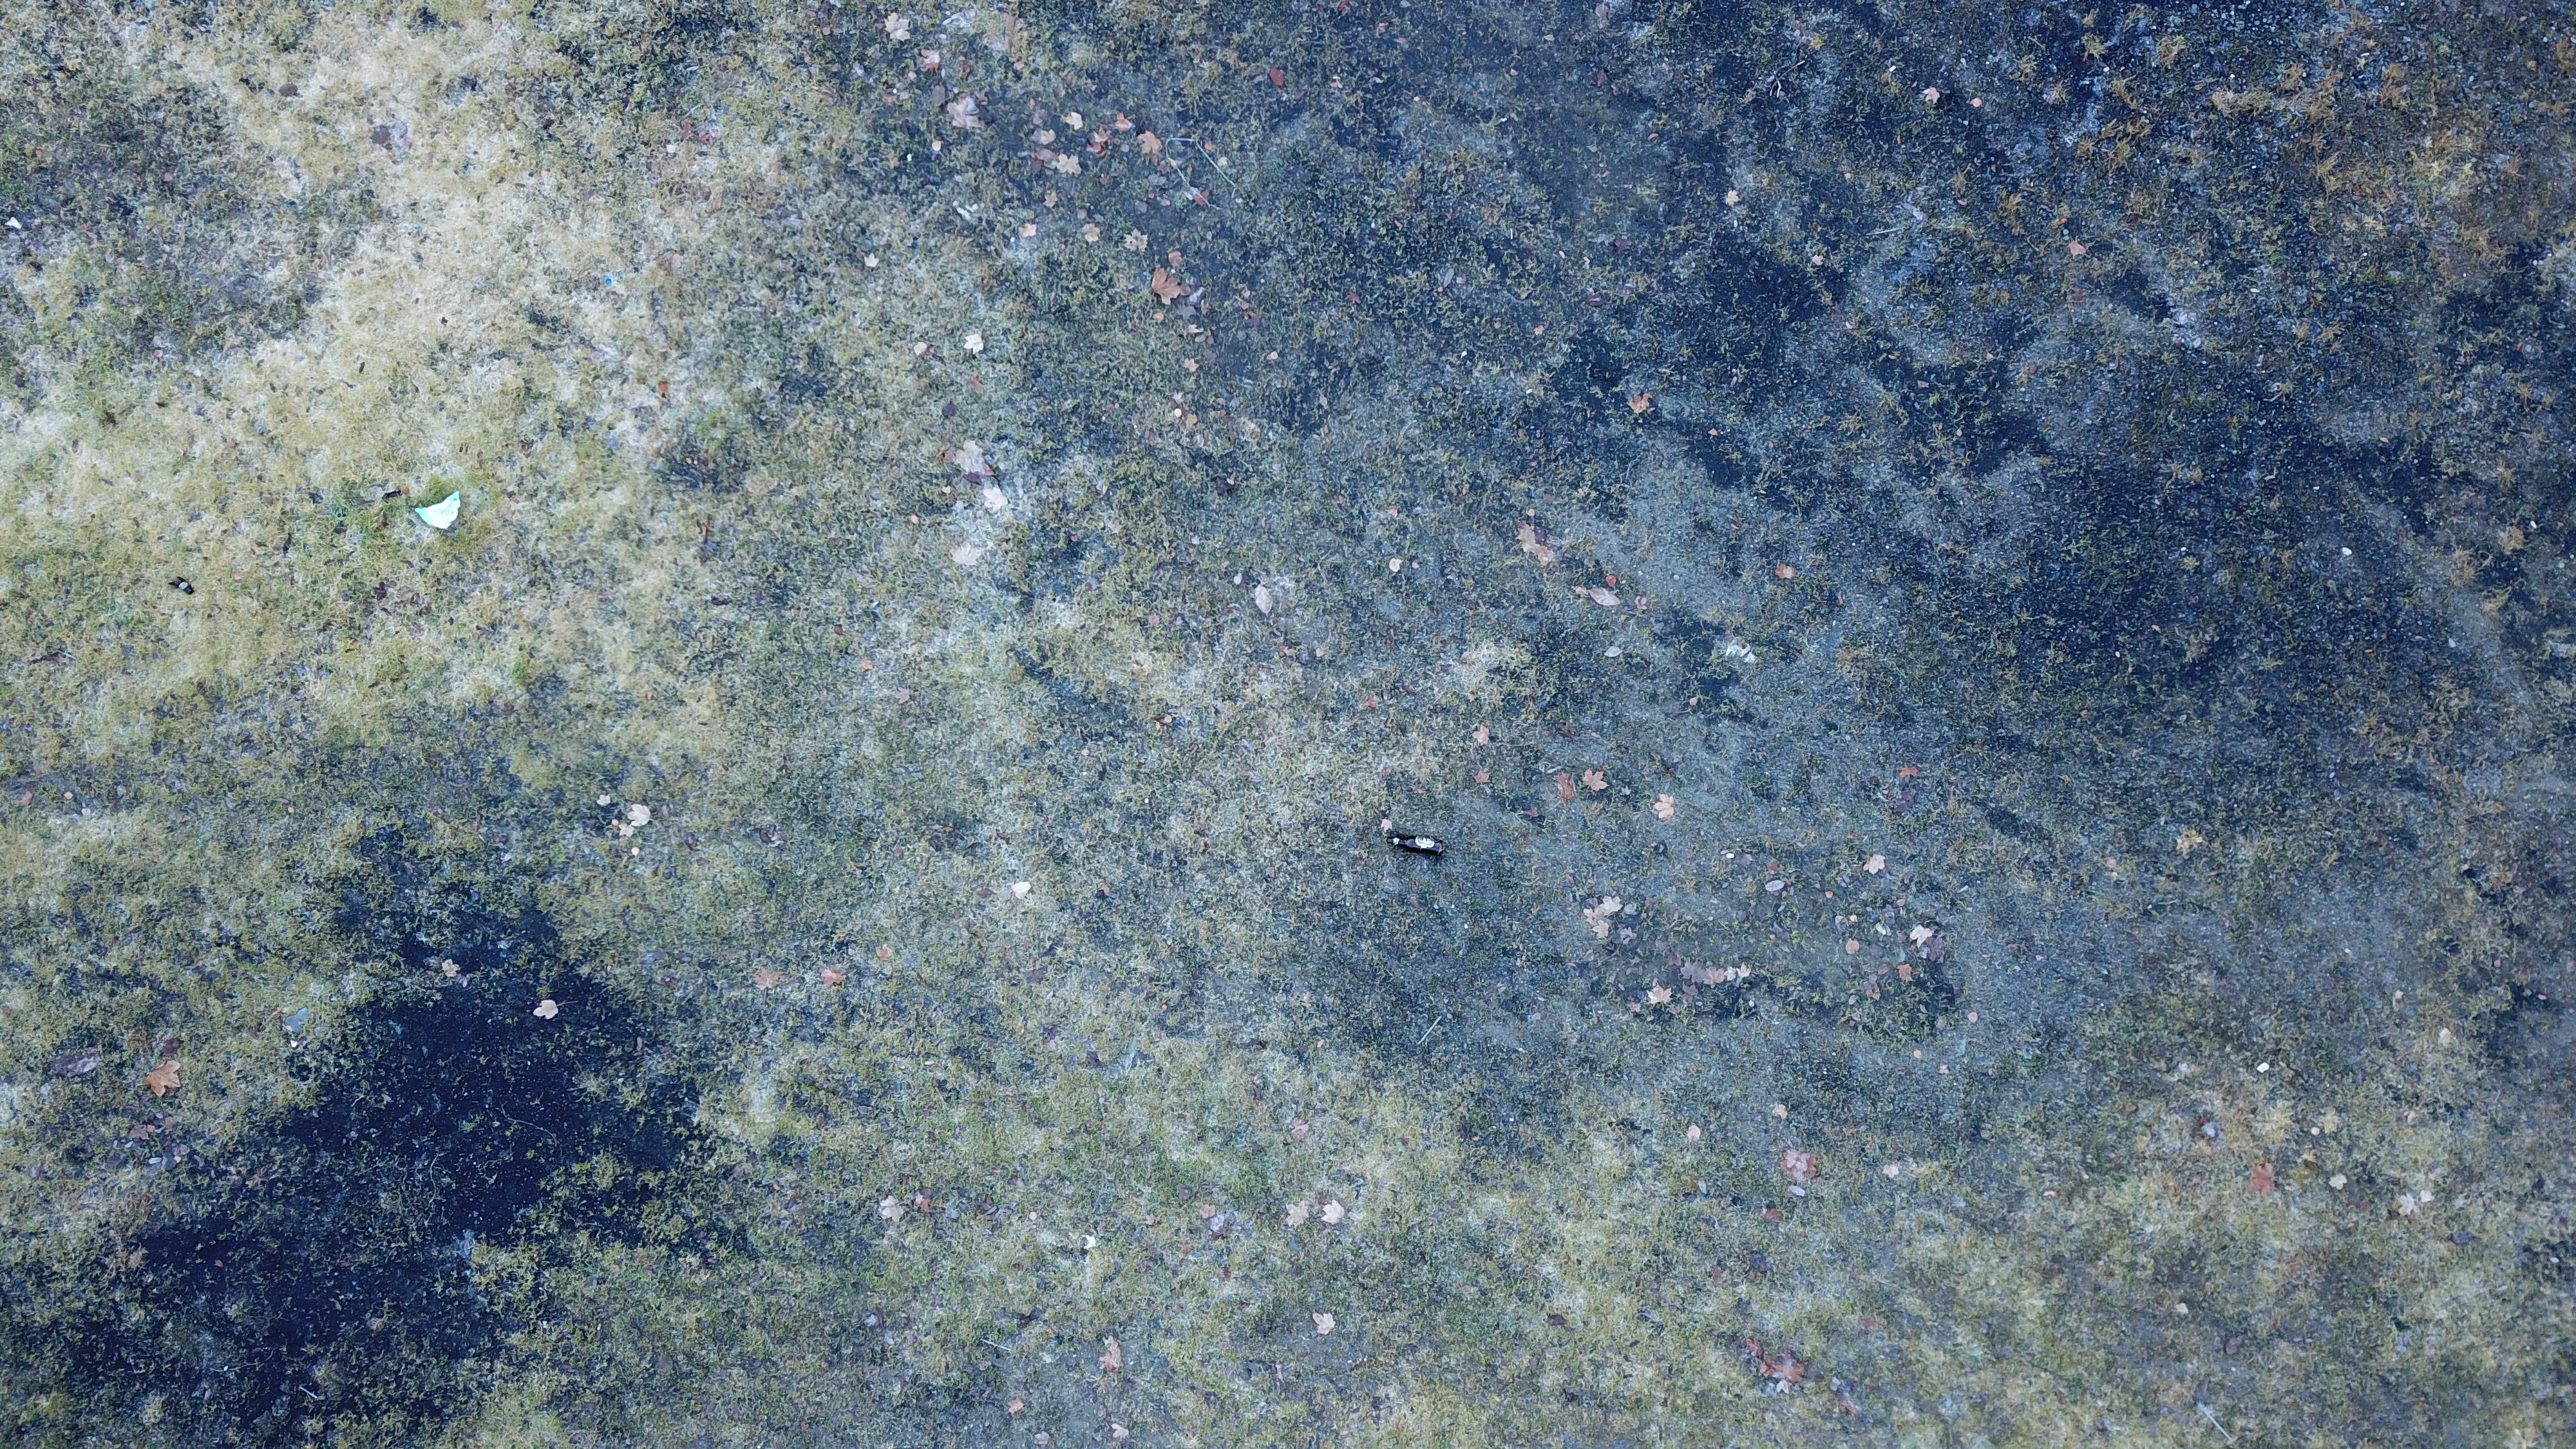Other: (1392, 833, 1456, 863)
Plastic: (418, 490, 469, 534)
